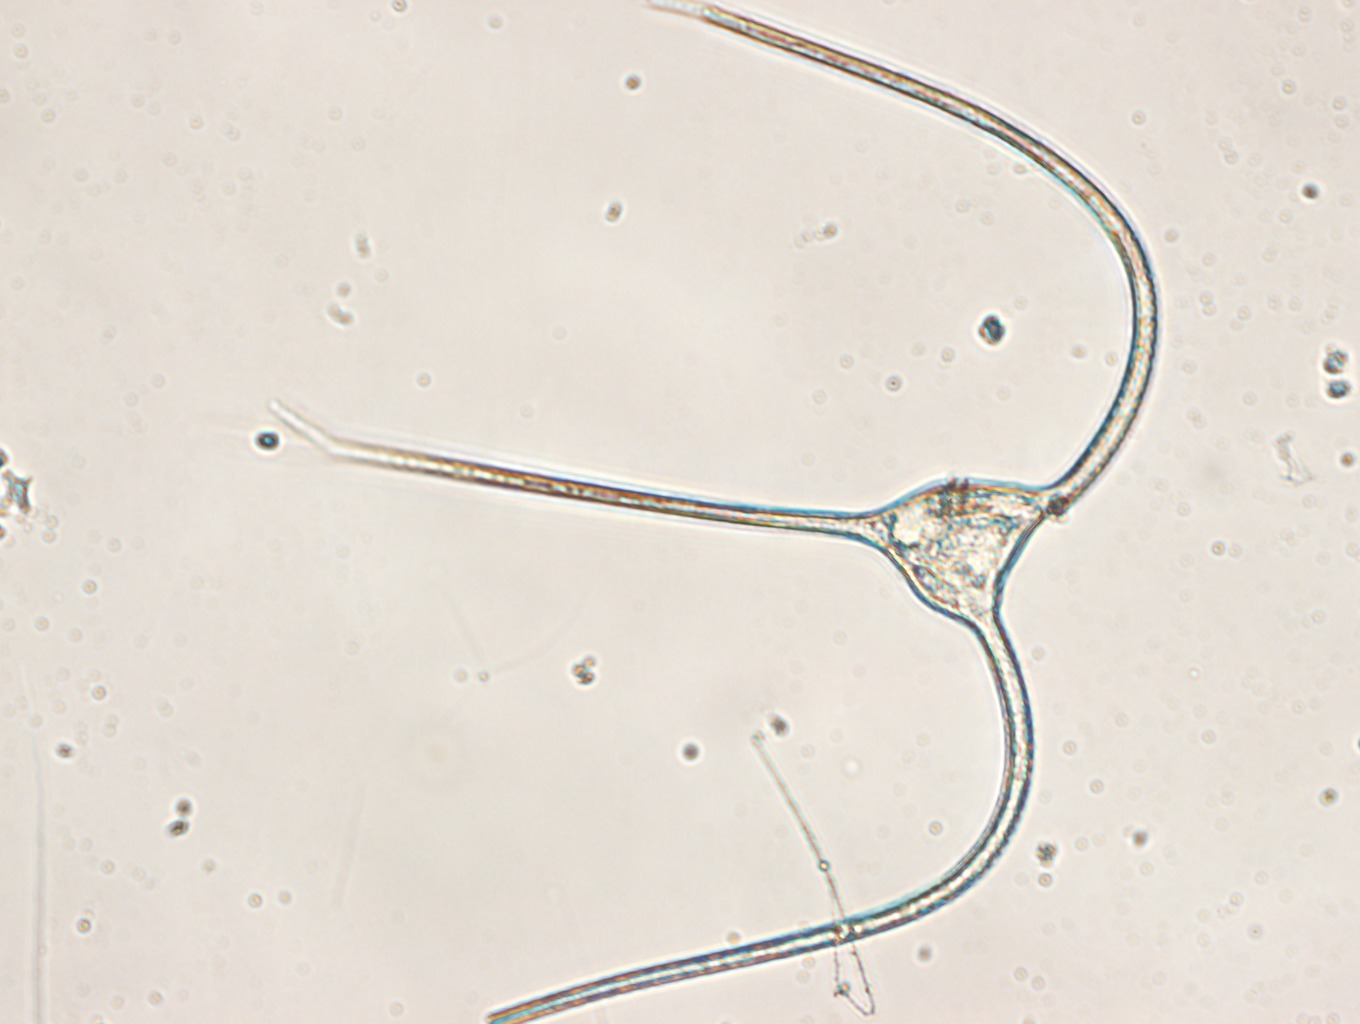ceratium trichoceros: (267, 1, 1159, 1024)
